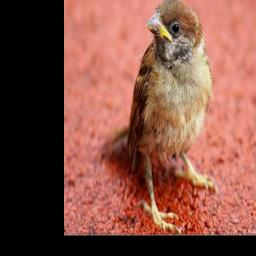Sparrow: (101, 0, 221, 232)
